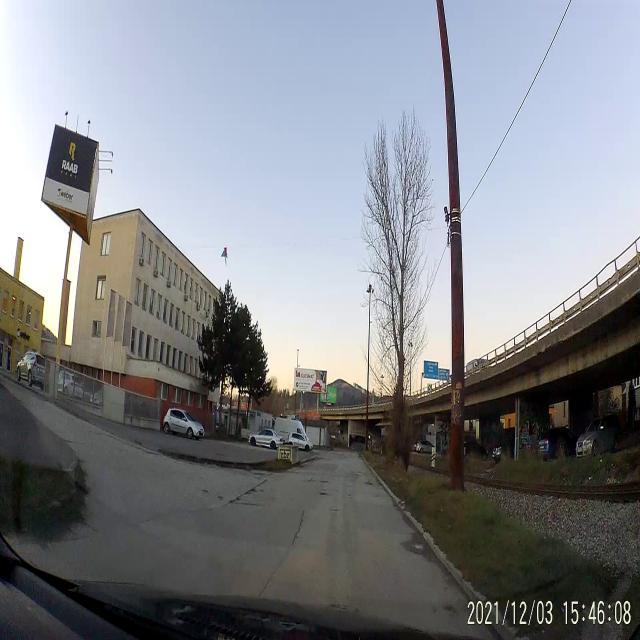Pothole: (226, 474, 274, 512), (403, 533, 430, 560), (439, 596, 459, 620), (318, 476, 334, 486), (317, 488, 330, 499), (364, 476, 374, 489)
